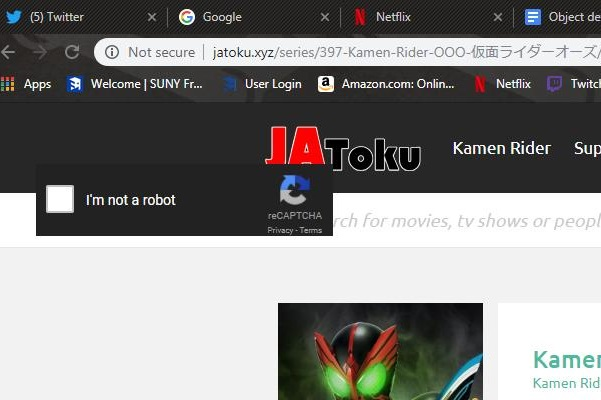captcha: (45, 185, 181, 214)
